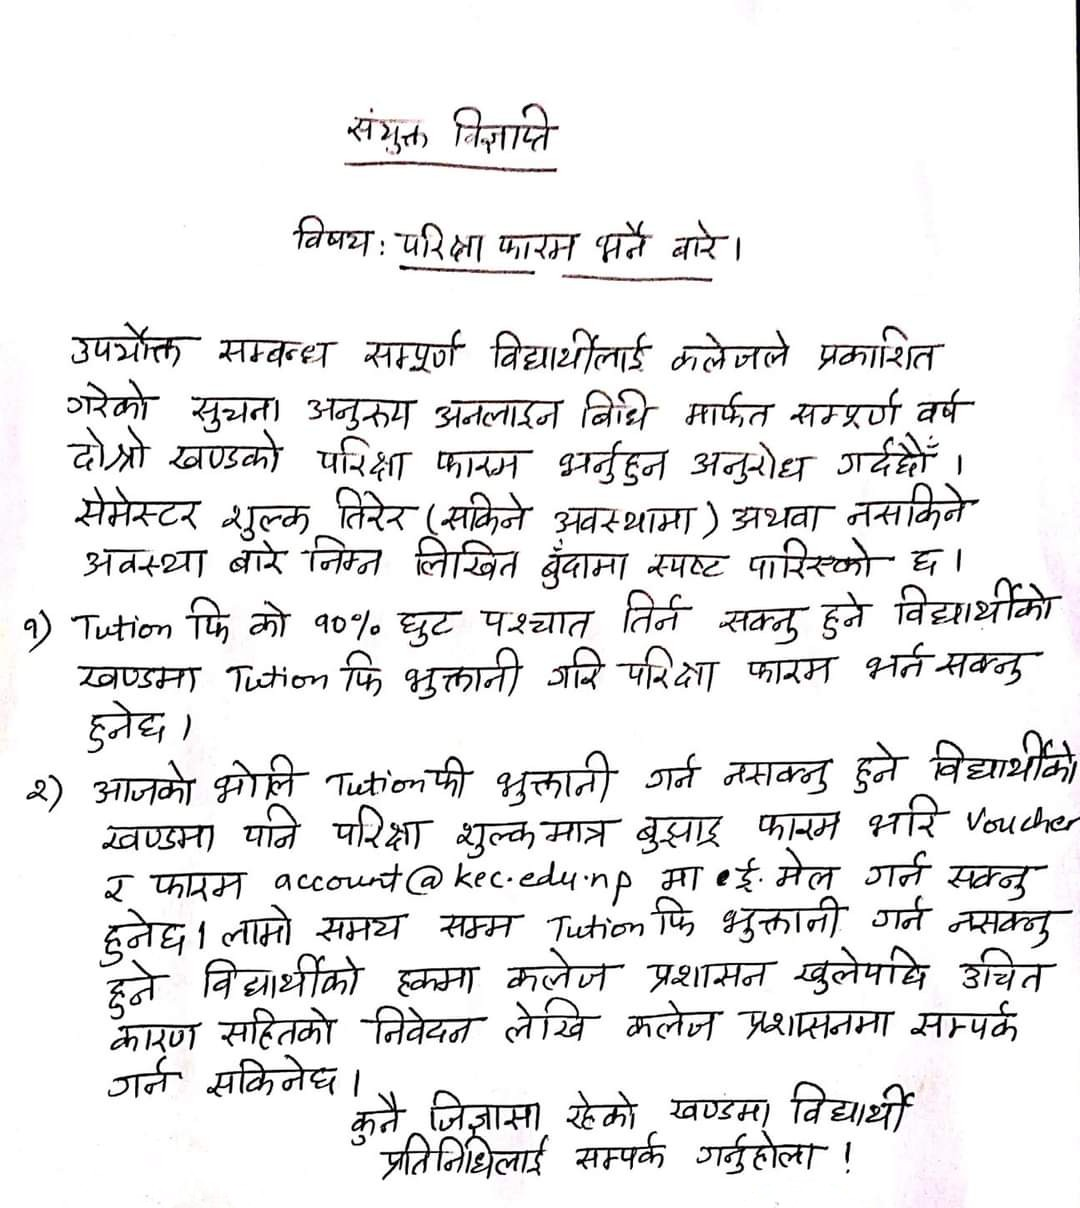text: (486, 321, 654, 377), (379, 1133, 553, 1185), (891, 583, 1071, 633), (195, 953, 366, 1000), (490, 751, 625, 807), (811, 319, 946, 374), (929, 736, 1080, 785), (737, 999, 898, 1044), (689, 1128, 828, 1180), (203, 1053, 347, 1103), (788, 1077, 923, 1130), (402, 646, 527, 702), (71, 480, 205, 533), (211, 323, 347, 374), (796, 945, 932, 996), (843, 485, 984, 534), (547, 496, 699, 541), (452, 99, 563, 161), (551, 438, 677, 492), (421, 1084, 548, 1136), (745, 538, 891, 583), (690, 435, 815, 486), (944, 902, 1080, 947), (68, 322, 200, 369), (713, 749, 838, 798), (718, 896, 845, 944), (669, 330, 795, 378), (906, 999, 1032, 1046), (360, 324, 466, 380), (91, 754, 195, 811), (164, 435, 293, 480), (566, 1128, 679, 1180), (90, 906, 192, 963), (428, 391, 559, 436), (216, 1003, 343, 1049), (359, 1002, 486, 1046), (70, 542, 213, 582), (643, 954, 775, 996), (300, 383, 414, 432), (830, 432, 946, 479), (67, 657, 205, 696), (80, 699, 181, 751), (409, 538, 526, 582), (501, 951, 616, 995), (937, 642, 1035, 694), (619, 997, 726, 1045), (726, 490, 834, 537), (941, 849, 1047, 897), (662, 1086, 782, 1128), (183, 385, 290, 432), (315, 434, 411, 485), (324, 807, 433, 852), (786, 389, 899, 432), (478, 603, 599, 643), (207, 751, 299, 804), (95, 817, 225, 854), (343, 104, 434, 156), (535, 539, 633, 587), (620, 650, 722, 696), (390, 219, 487, 267), (955, 944, 1052, 992), (216, 492, 314, 539), (504, 997, 602, 1044), (742, 645, 842, 691), (146, 860, 253, 903), (390, 952, 483, 1000), (429, 438, 531, 482), (677, 388, 780, 430), (95, 1057, 187, 1105), (861, 789, 944, 841), (636, 807, 726, 855), (574, 381, 658, 433), (65, 428, 153, 476), (440, 491, 532, 537), (63, 379, 156, 423), (289, 214, 379, 258), (448, 813, 536, 859), (558, 1085, 648, 1129), (752, 804, 849, 844), (326, 487, 414, 532), (219, 904, 297, 954), (841, 737, 913, 791), (99, 963, 170, 1017), (437, 899, 520, 944), (240, 803, 309, 857), (107, 1017, 205, 1055), (621, 595, 694, 645), (856, 845, 932, 893), (543, 645, 607, 702), (316, 904, 409, 942), (906, 385, 982, 432), (392, 603, 468, 650), (540, 810, 623, 853), (303, 538, 387, 580), (491, 225, 579, 265), (811, 588, 876, 641), (716, 605, 801, 645), (774, 849, 846, 895), (339, 1092, 404, 1141), (646, 548, 732, 586), (668, 213, 721, 271), (860, 639, 933, 681), (183, 594, 240, 647), (590, 221, 649, 271), (642, 749, 705, 796), (226, 538, 290, 583), (311, 609, 387, 644), (644, 894, 704, 939), (338, 652, 392, 701), (868, 895, 930, 938), (423, 750, 477, 797), (247, 592, 295, 644), (900, 538, 953, 582), (14, 769, 64, 811), (17, 602, 54, 649), (661, 859, 703, 896), (730, 854, 760, 896), (100, 872, 133, 905)
